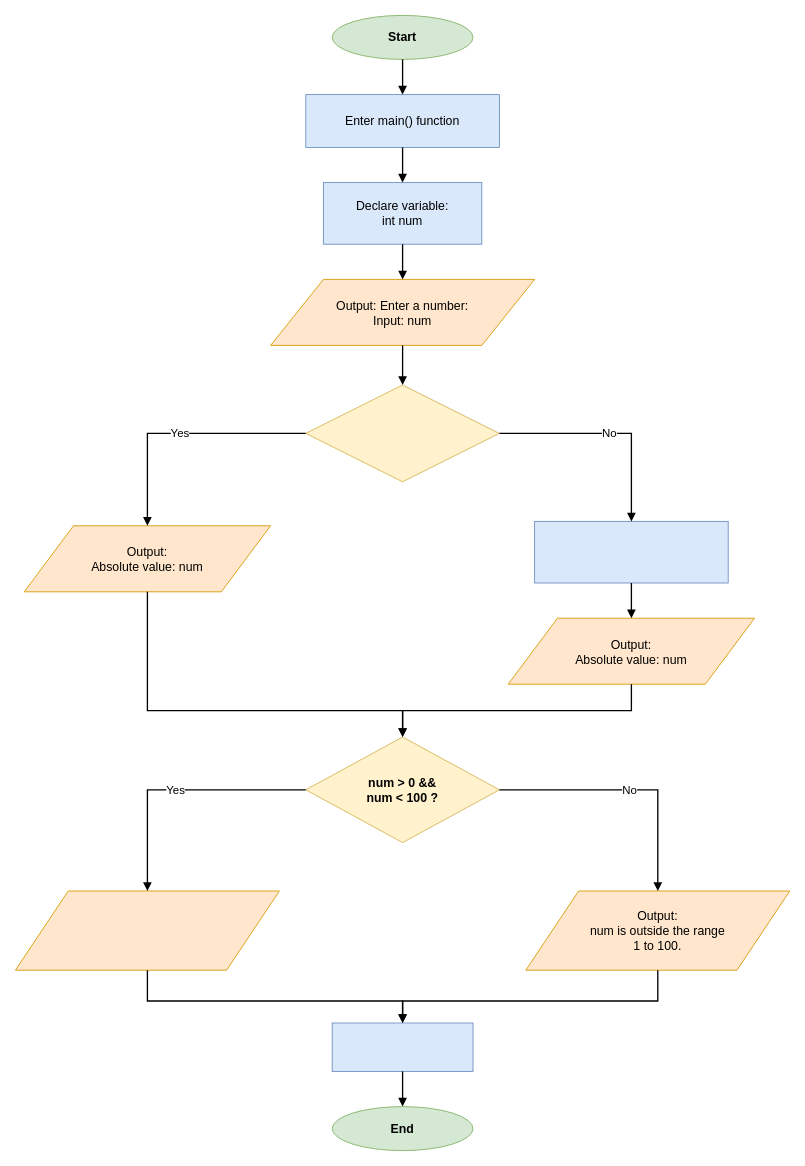
Image size: 805x1166. Some labels were removed from this diagram. The shapes that lost their labels are listed below. From the top down, each one's centre as x and y in pixels, then its label:
the point at 402,433: num > 0 ?
the point at 631,552: Calculate: num = -num
the point at 147,930: Output: num is within the range 1 to 100.
the point at 402,1046: Return 0
